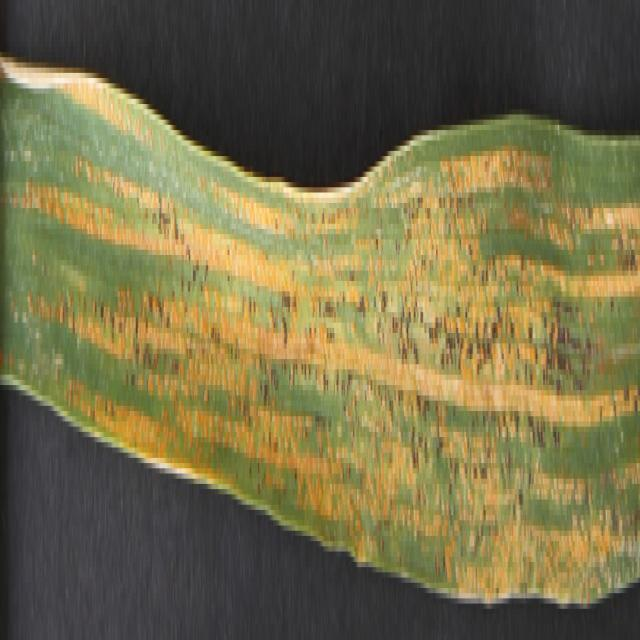leaf rust: (13, 141, 640, 619)
